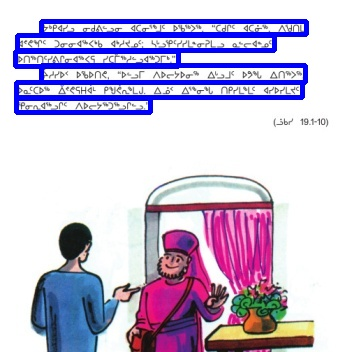inuktitut: (41, 65, 305, 82), (16, 82, 302, 97), (17, 35, 274, 50), (41, 21, 306, 34), (15, 51, 178, 66), (16, 98, 150, 112)
